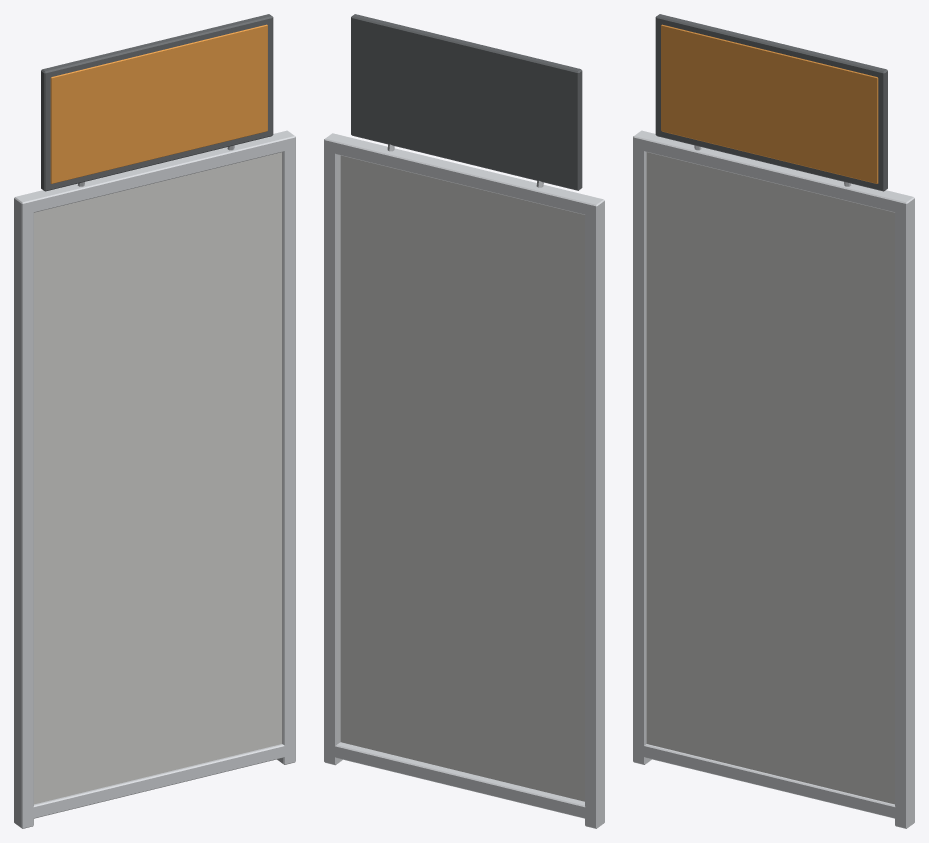
The model's file is rack-end-panel-with-sign-board.glb.
3 renders of one model, left to right at view 1: azimuth 30°, elevation 25°; view 2: azimuth 150°, elevation 25°; view 3: azimuth 330°, elevation 25°, orthographic.
Parts seen in each view (by area): view 1: rack-end-panel-signage; view 2: rack-end-panel-signage; view 3: rack-end-panel-signage.
Boxes of the visible parts, <box> form: rack-end-panel-signage: <box>14,14,295,828</box>; rack-end-panel-signage: <box>324,14,604,828</box>; rack-end-panel-signage: <box>633,14,914,828</box>.
Size of the model in its own units: 1.1 by 2.88 by 0.0629.
